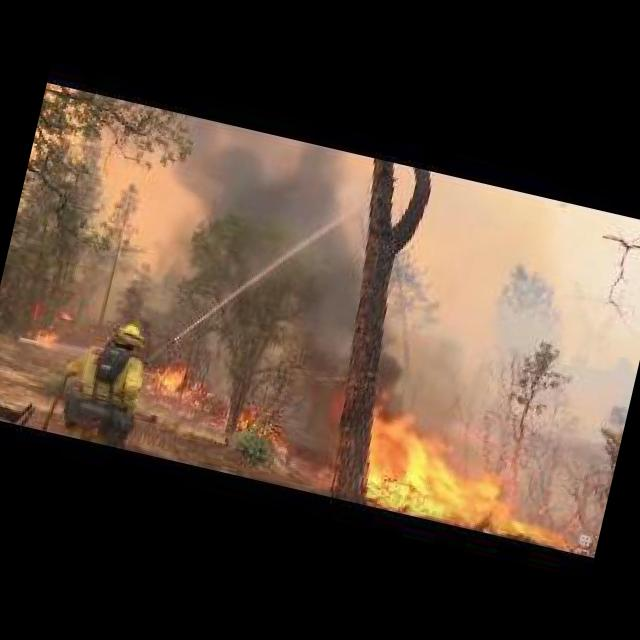Fire: (349, 398, 592, 546), (140, 351, 230, 411), (15, 293, 80, 357), (26, 316, 64, 354), (58, 306, 72, 318)
Smoke: (130, 120, 392, 422), (386, 179, 640, 445)
